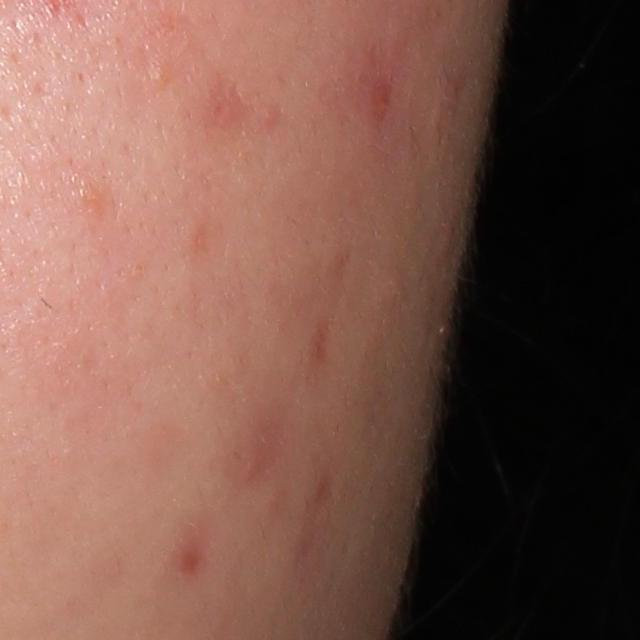comedo: (147, 55, 170, 86)
